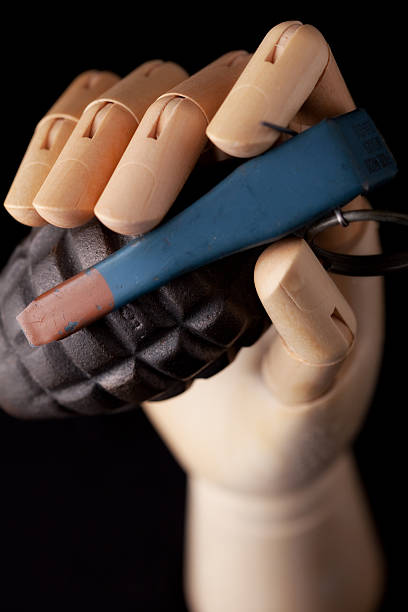e1: (7, 103, 408, 422)
